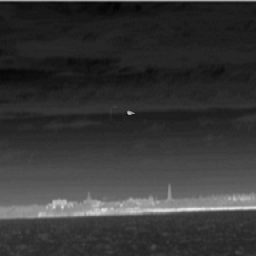Target: (126, 110, 136, 115)
